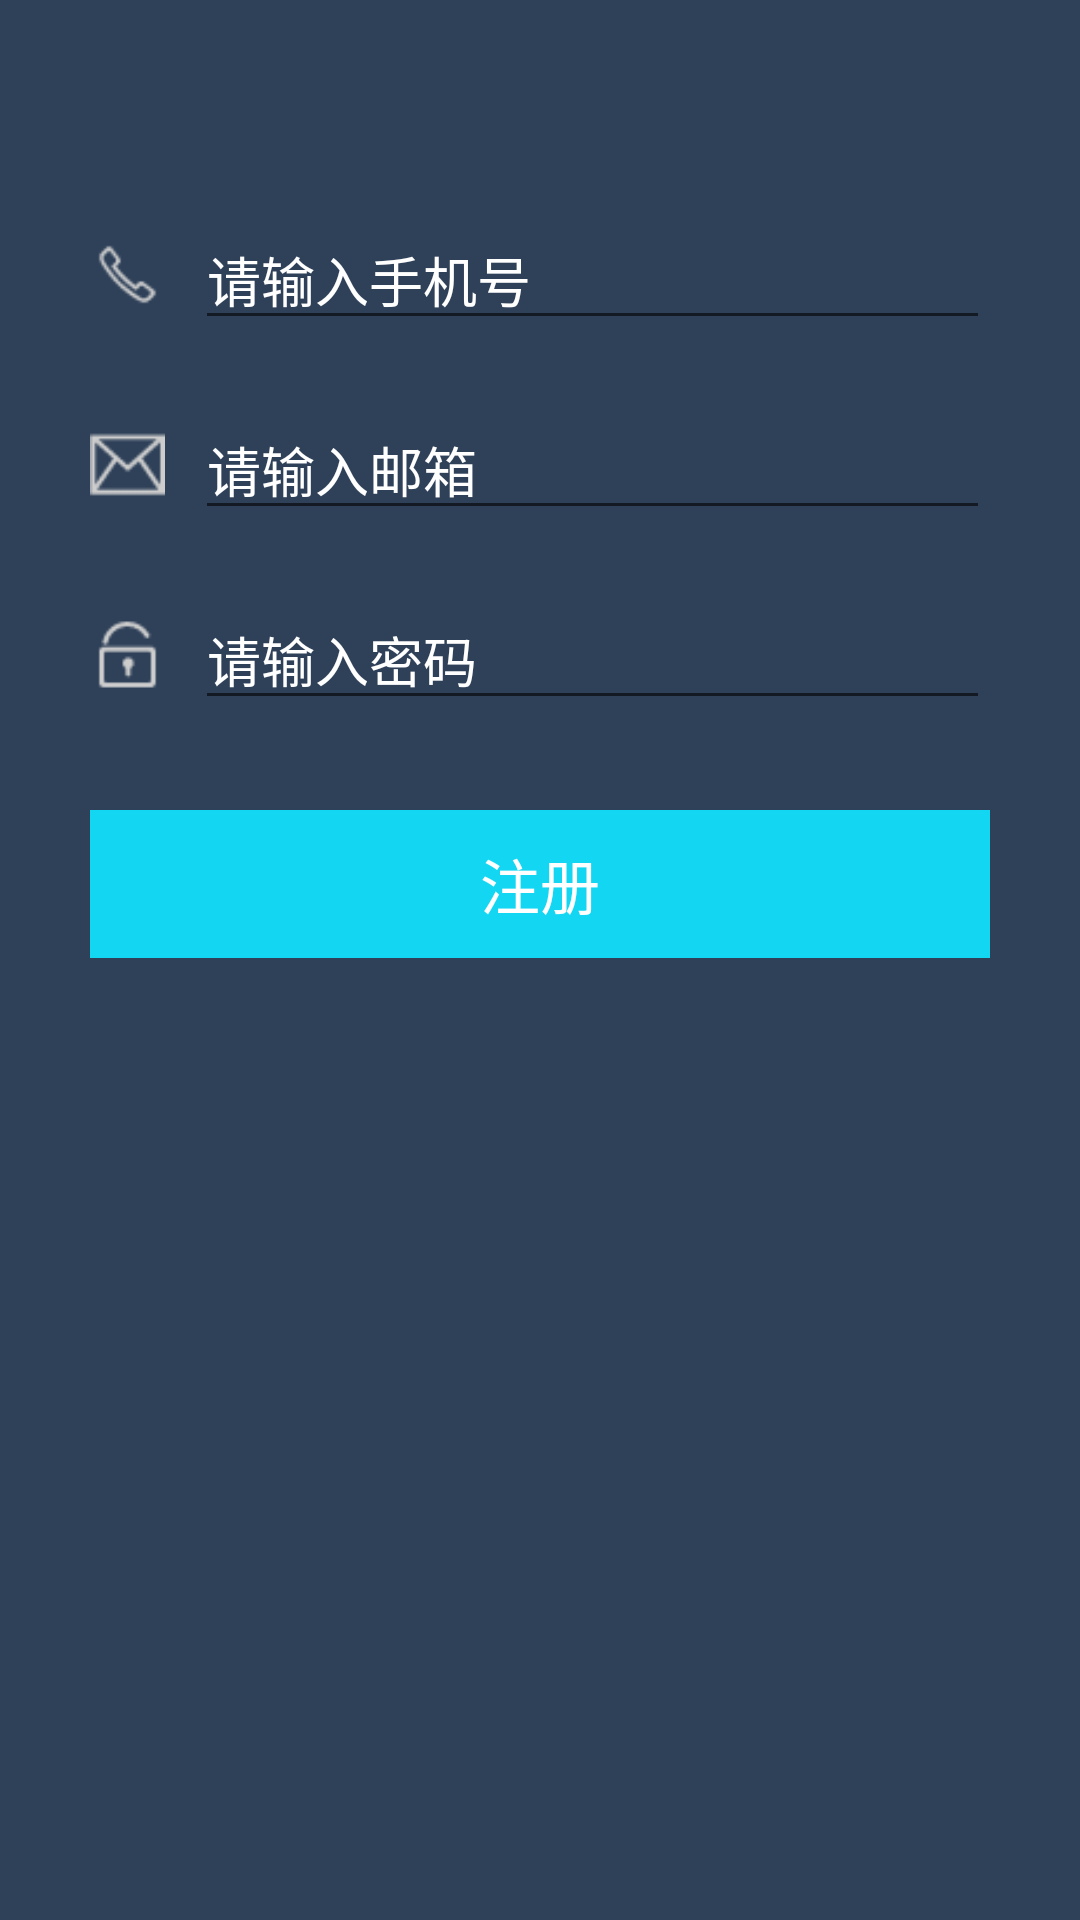

Named icons in this screenshot (1080*1920) and their centers, (x,y):
email: (127,465)
lock: (127,654)
phone: (127,274)
